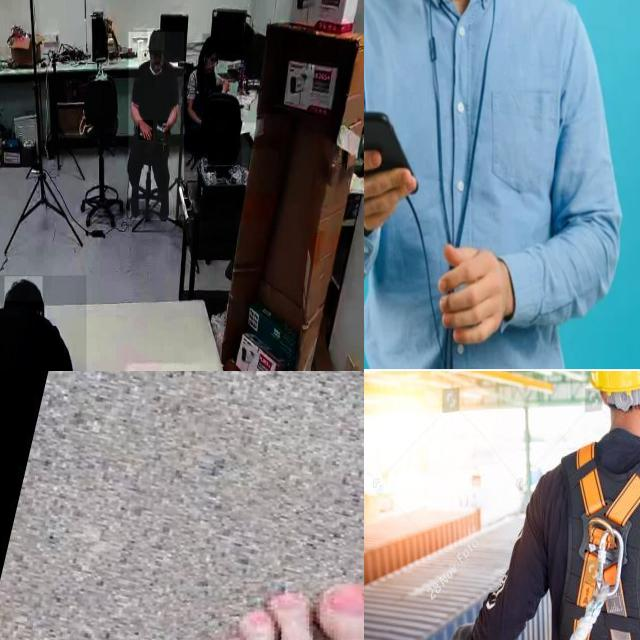Barefoots: (107, 527, 364, 640)
Harness: (561, 443, 640, 640)
face_nomask: (205, 52, 217, 74)
hand_noglove: (138, 120, 154, 141), (158, 121, 170, 134)
head_nohelmet: (5, 276, 43, 302), (147, 28, 165, 52), (202, 34, 220, 50)
person: (128, 32, 184, 221), (185, 42, 242, 173)
